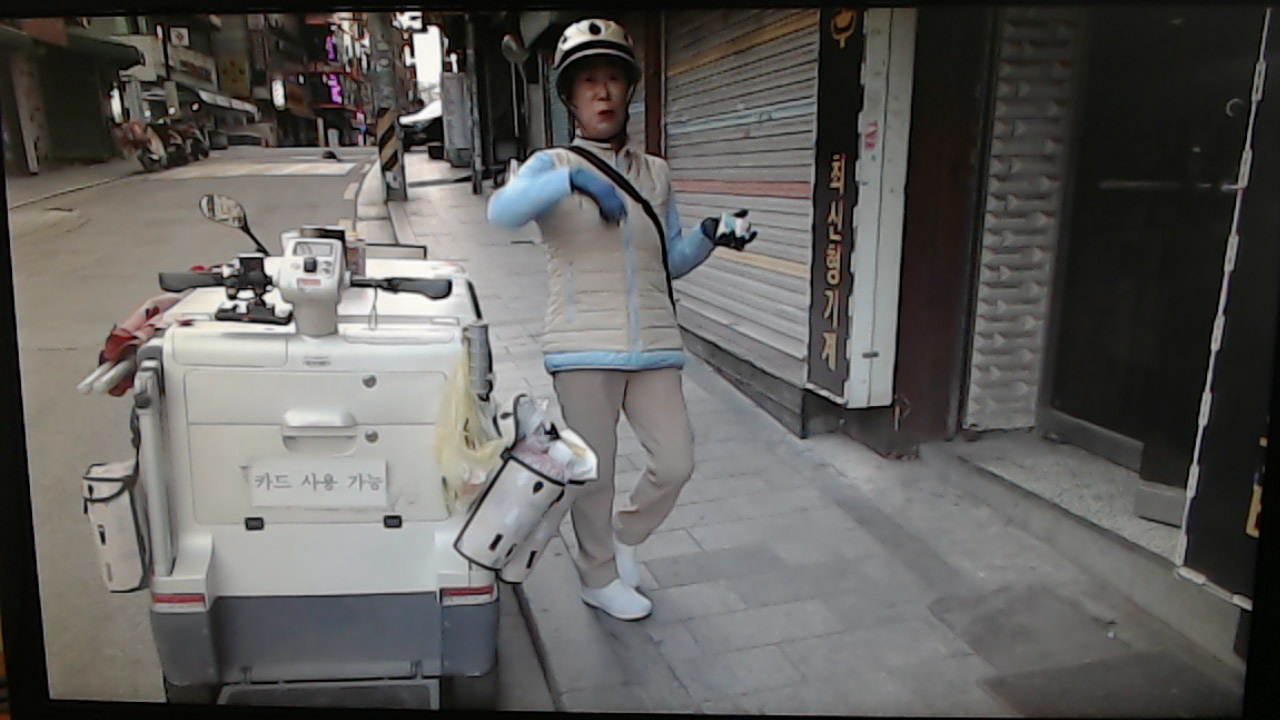Yakurut: (485, 18, 818, 636)
